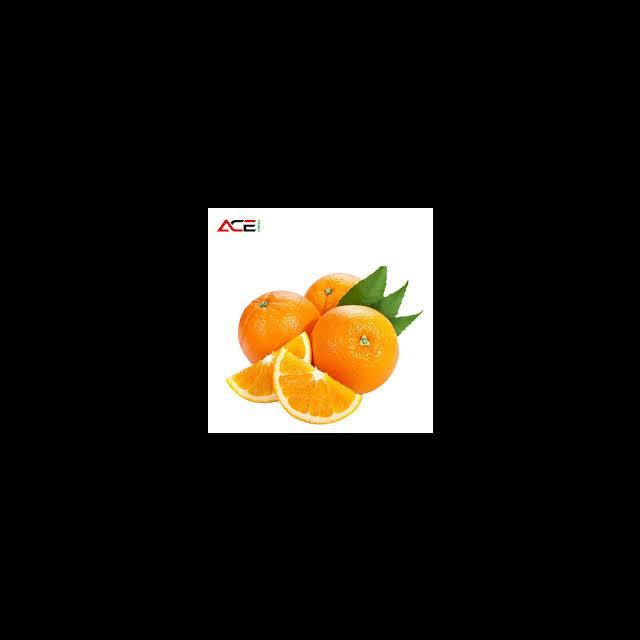orange: (305, 307, 412, 401), (231, 285, 327, 376), (228, 331, 322, 414), (275, 346, 361, 424), (305, 269, 381, 342)
